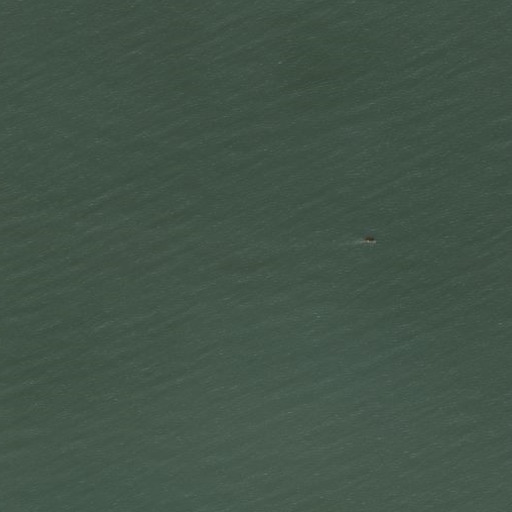ship: (358, 235, 379, 247)
